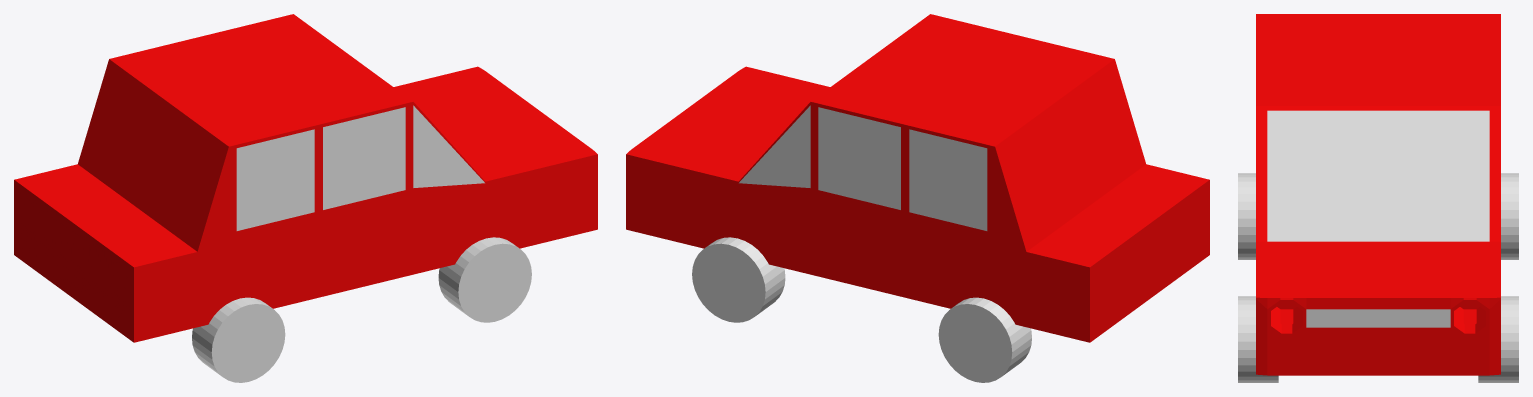
Rendered from car.gltf.
3 renders of one model, left to right at view 1: azimuth 30°, elevation 25°; view 2: azimuth 150°, elevation 25°; view 3: azimuth 270°, elevation 25°, orthographic. The views are drawn at different scales.
Visible parts, largest first — view 1: Auto; view 2: Auto; view 3: Auto.
Part boxes in pixels (left/top/right/bottom): Auto: left=14, top=14, right=597, bottom=382; Auto: left=626, top=14, right=1209, bottom=382; Auto: left=1238, top=14, right=1518, bottom=382.
Bounding box in the file's own units: 0.3756 × 0.1785 × 0.192.
